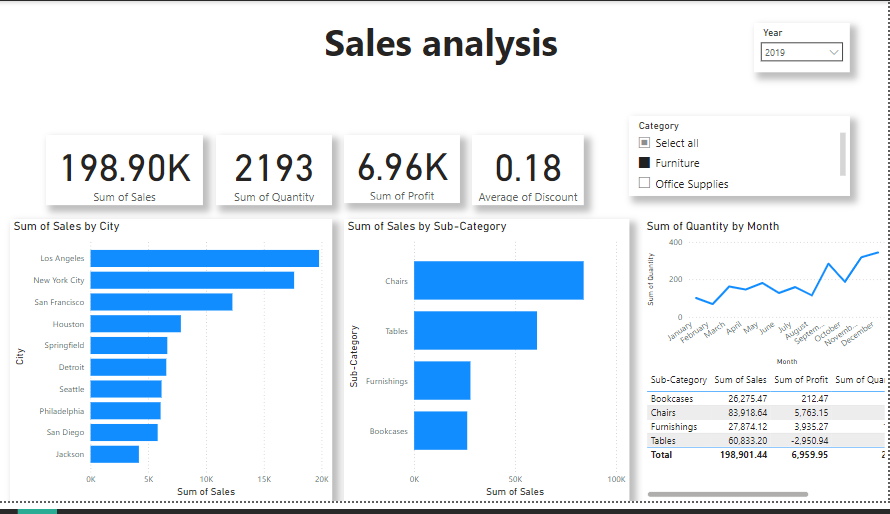

What the dashboard file says about the page in this screenshot:
{"tool":"powerbi","page":{"name":"Page 1","canvas":[1280,720],"ordinal":0},"visuals":[{"type":"slicer","fields":{"Values":["Orders.Year"]},"box":[1087.2,31.7,138.2,70.6],"z":0},{"type":"card","fields":{"Values":["Sum(Orders.Sales)"]},"box":[67.7,193,226.1,100.8],"z":1000},{"type":"slicer","fields":{"Values":["Orders.Category"]},"box":[907.2,165.6,318.2,115.2],"z":2000},{"type":"card","fields":{"Values":["Sum(Orders.Quantity)"]},"box":[312.5,193,167,100.8],"z":3000},{"type":"barChart","fields":{"Category":["Orders.City"],"Y":["Sum(Orders.Sales)"]},"box":[15.8,313.9,463.7,406.1],"z":4000},{"type":"card","fields":{"Values":["Sum(Orders.Profit)"]},"box":[496.8,193,167,97.9],"z":5000},{"type":"barChart","fields":{"Category":["Orders.Sub-Category"],"Y":["Sum(Orders.Sales)"]},"box":[496.9,314.3,410.9,405.6],"z":6000},{"type":"lineChart","fields":{"Category":["Orders.Order Date.Variation.Date Hierarchy.Month"],"Y":["Sum(Orders.Quantity)"]},"box":[927.1,314.3,352.9,216],"z":7000},{"type":"card","fields":{"Values":["Avg(Orders.Discount)"]},"box":[681.1,193,161.3,100.8],"z":8000},{"type":"tableEx","fields":{"Values":["Orders.Sub-Category","Sum(Orders.Sales)","Sum(Orders.Profit)","Sum(Orders.Quantity)","Avg(Orders.Discount)"]},"box":[927,530,353,190],"z":9000},{"type":"textbox","box":[220.3,15.8,832.3,116.6],"z":10000}]}

Visuals, with their boxes in screenshot pixels (x1, y1, x2, y2), scaled from the page's 1280x720 canvas onto the 890x514 screenshot:
slicer - Orders.Year: crop(756, 23, 852, 73)
card - Sum(Orders.Sales): crop(47, 138, 204, 210)
slicer - Orders.Category: crop(631, 118, 852, 200)
card - Sum(Orders.Quantity): crop(217, 138, 333, 210)
barChart - Orders.City x Sum(Orders.Sales): crop(11, 224, 333, 513)
card - Sum(Orders.Profit): crop(345, 138, 462, 208)
barChart - Orders.Sub-Category x Sum(Orders.Sales): crop(346, 224, 631, 513)
lineChart - Orders.Order Date.Variation.Date Hierarchy.Month x Sum(Orders.Quantity): crop(645, 224, 889, 379)
card - Avg(Orders.Discount): crop(474, 138, 586, 210)
tableEx - Orders.Sub-Category x Sum(Orders.Sales): crop(645, 378, 889, 513)
textbox: crop(153, 11, 732, 95)
